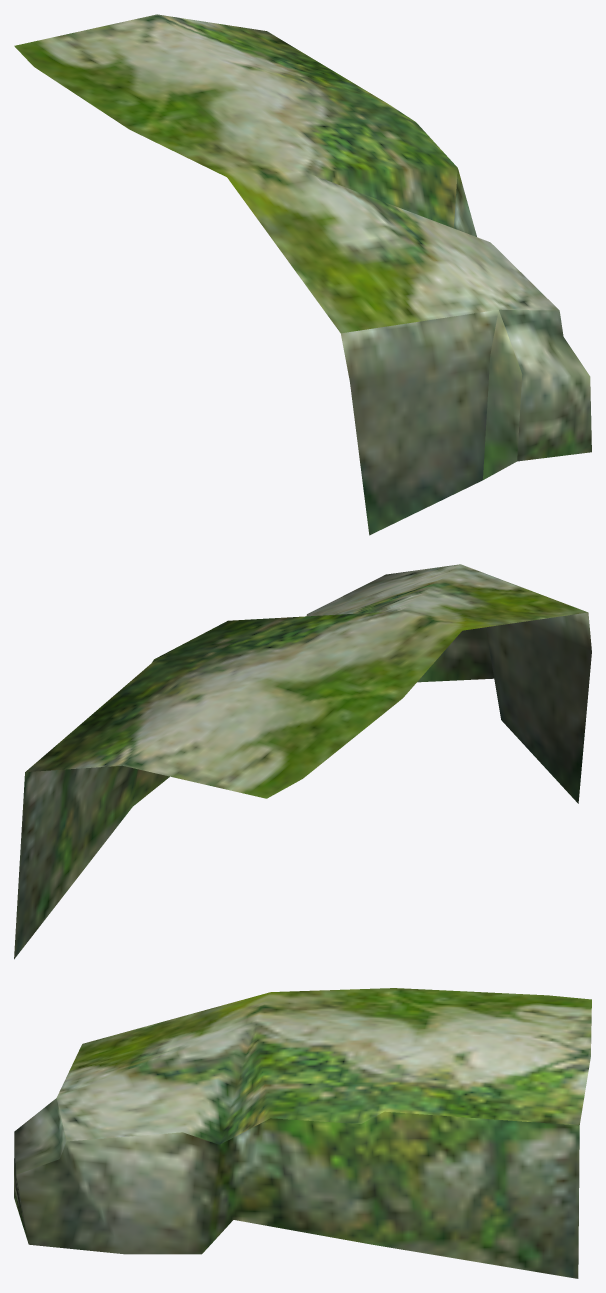
File: S_Rock_Green048_1060_19.fbx
The picture shows the model from 3 angles, top to bottom: view 1: azimuth 30°, elevation 25°; view 2: azimuth 150°, elevation 25°; view 3: azimuth 270°, elevation 25°; orthographic projection. The views are drawn at different scales.
Parts seen in each view (by area): view 1: S_Rock_Green048_1060_19; view 2: S_Rock_Green048_1060_19; view 3: S_Rock_Green048_1060_19.
Boxes of the visible parts, <box> form: S_Rock_Green048_1060_19: <box>14,14,591,535</box>; S_Rock_Green048_1060_19: <box>14,564,591,959</box>; S_Rock_Green048_1060_19: <box>14,988,591,1278</box>.
Bounding box in the file's own units: 692 × 630 × 1556.
Materials: 1 (1 with a texture image).
